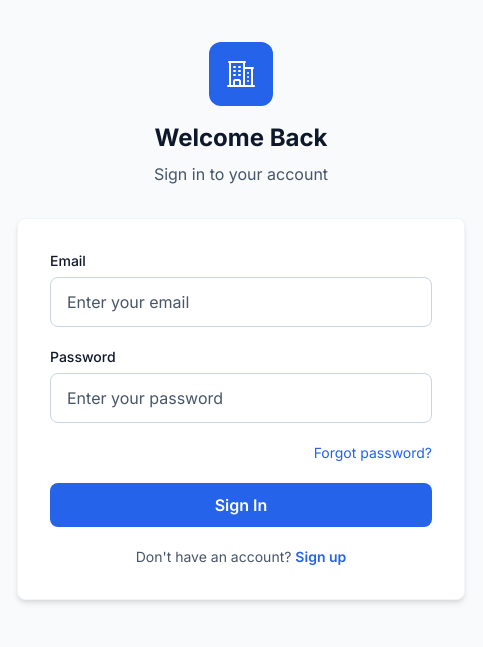
Test: Login Component › displays validation errors for empty fields
The width and height of the screenshot is (483, 647).
Click the button "Sign In" at [241, 505], box [50,483,432,527]
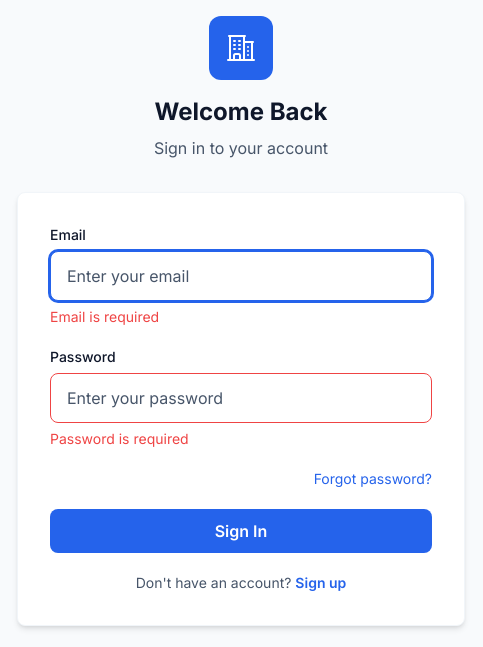
Result: the text "Email is required" is shown at [50,308,159,325]
